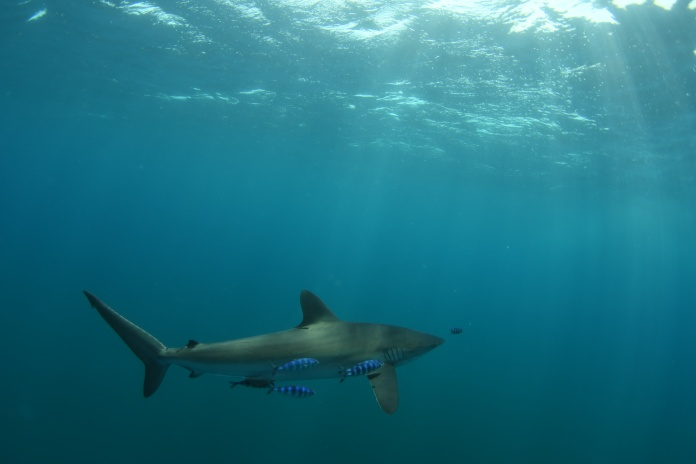Mako: (77, 284, 452, 426)
